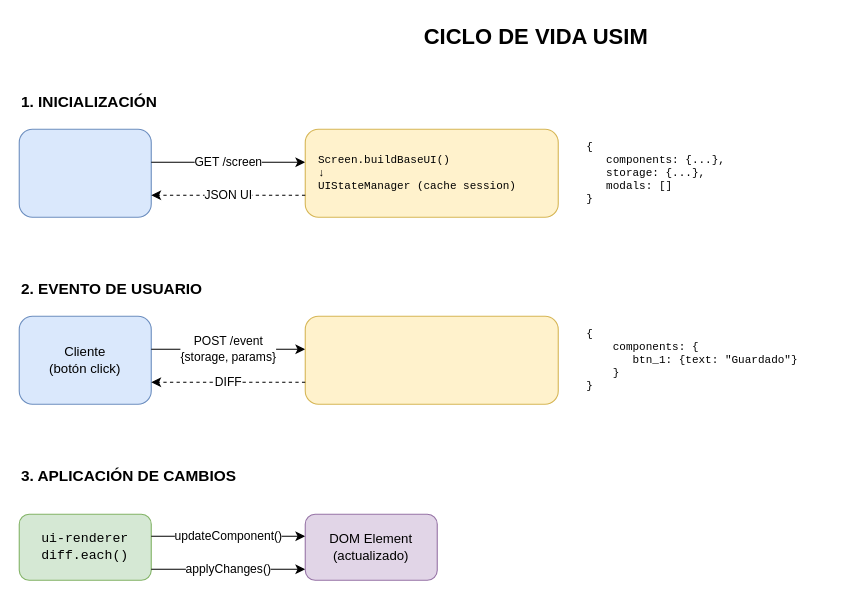
The diagram is 846 pixels wide and 600 high, and some of its shapes have lost their labels. The box of each missing label's shape, as (x1, y1, x2, y2) in pixels:
Cliente: (18, 128, 151, 217)
initializeEventContext() ↓ onEvent($params) ↓ UIDiffer.diff()(oldUI → newUI): (304, 315, 558, 404)
